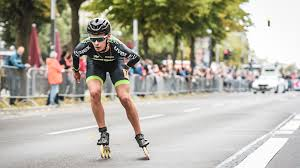roller_blate: (134, 133, 154, 162), (96, 127, 114, 159)
